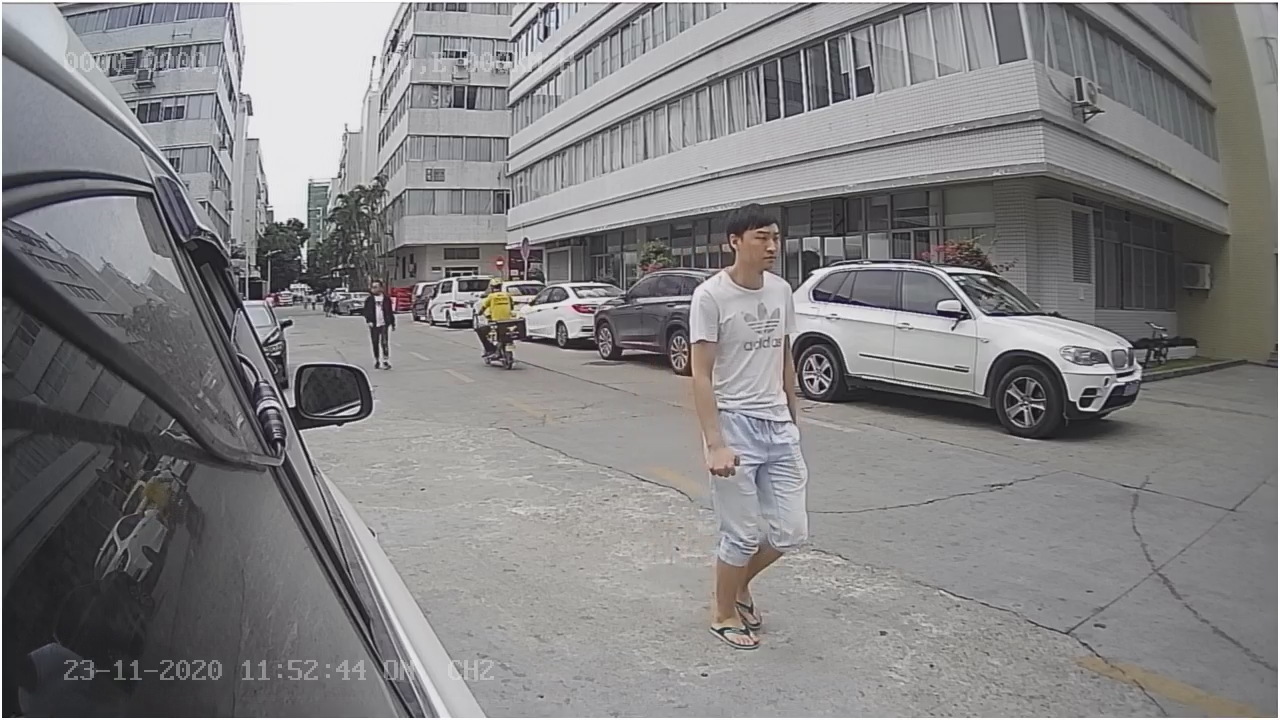person: (690, 207, 817, 649)
